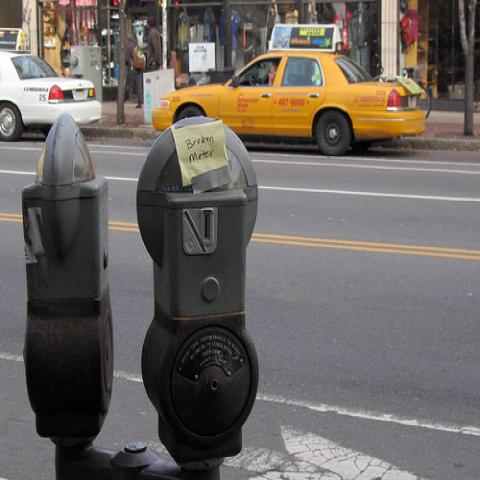car: (149, 50, 427, 154), (0, 47, 103, 141)
